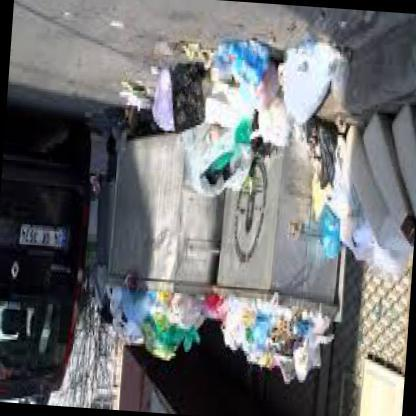Garbage: (202, 292, 336, 394), (97, 288, 206, 371), (145, 38, 213, 138), (180, 115, 252, 194), (277, 30, 348, 108), (210, 32, 265, 96), (234, 110, 272, 196), (100, 56, 154, 114), (298, 127, 344, 188), (336, 216, 379, 272), (250, 51, 286, 111), (206, 292, 248, 340), (259, 104, 294, 152), (180, 30, 218, 74), (318, 212, 348, 264), (308, 174, 338, 214), (139, 338, 180, 362), (122, 274, 150, 306), (299, 309, 330, 329), (263, 297, 286, 318), (168, 300, 196, 317)
